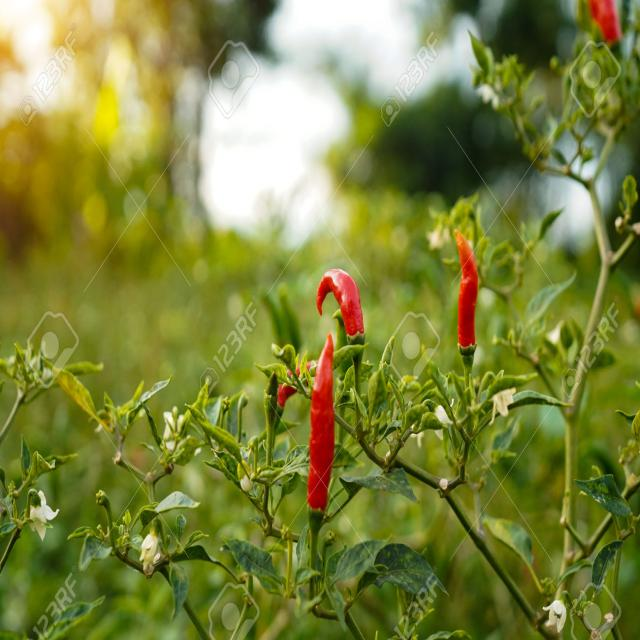chili: (316, 270, 364, 342), (455, 231, 478, 348)
